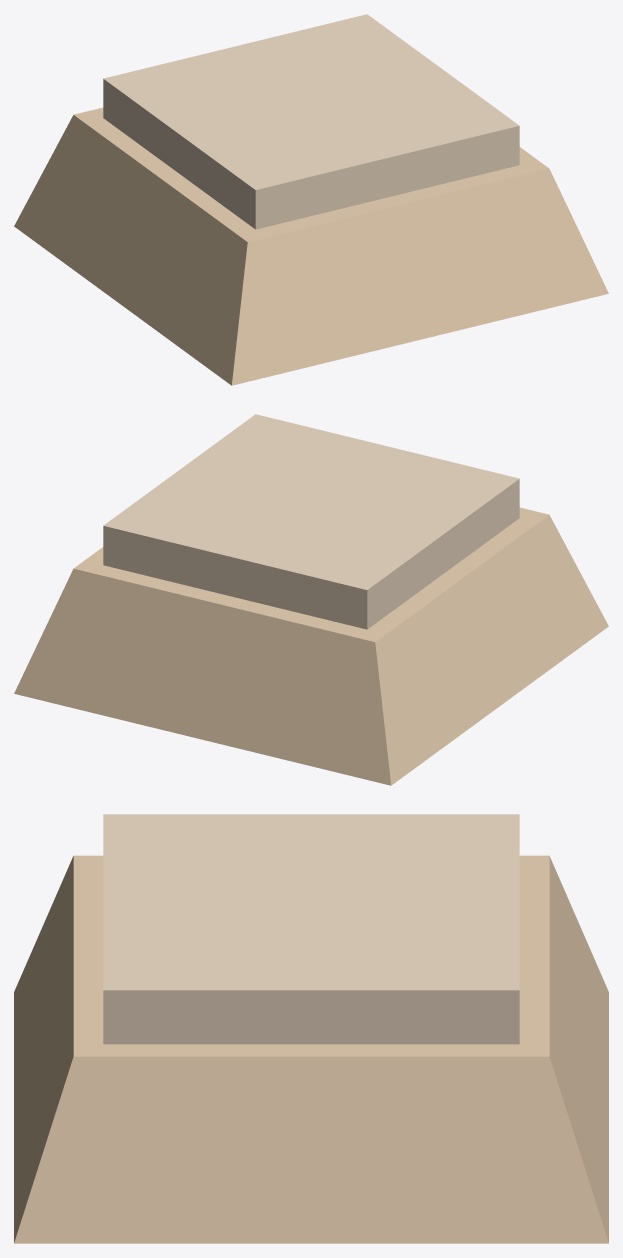
The picture shows the model from 3 angles, top to bottom: view 1: azimuth 30°, elevation 25°; view 2: azimuth 150°, elevation 25°; view 3: azimuth 270°, elevation 25°; orthographic projection. The views are drawn at different scales.
Visible parts, largest first — view 1: object1.002; view 2: object1.002; view 3: object1.002.
Boxes of the visible parts, box(x1,y1,x2,y2) form: object1.002: box(14, 14, 608, 385); object1.002: box(14, 414, 608, 785); object1.002: box(14, 814, 608, 1243).
Size of the model in its own units: 1 by 0.4 by 1.
